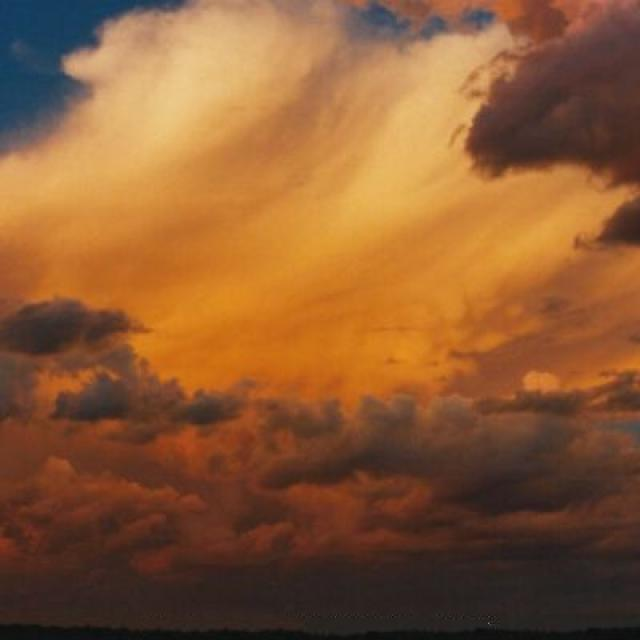Cu: (1, 26, 640, 555)
